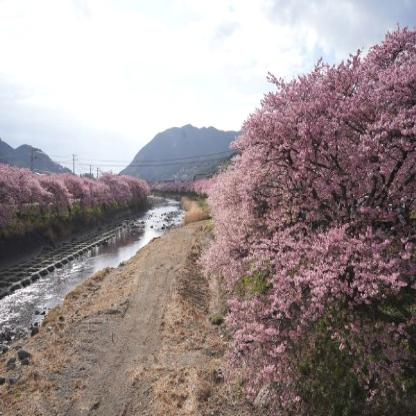KawazuSakura: (197, 22, 415, 414), (0, 157, 151, 233)
